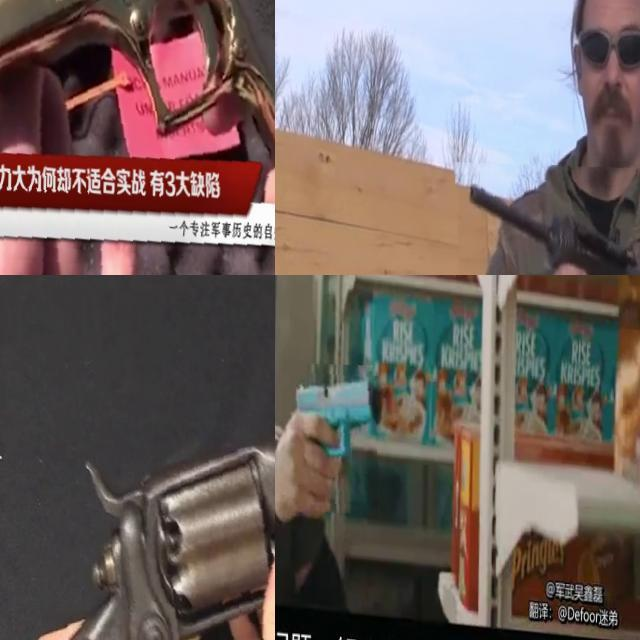gun-knife-thesis - v11 Yolov5 augmented: (0, 275, 275, 640), (0, 0, 275, 275), (455, 139, 640, 275), (282, 352, 382, 512)
